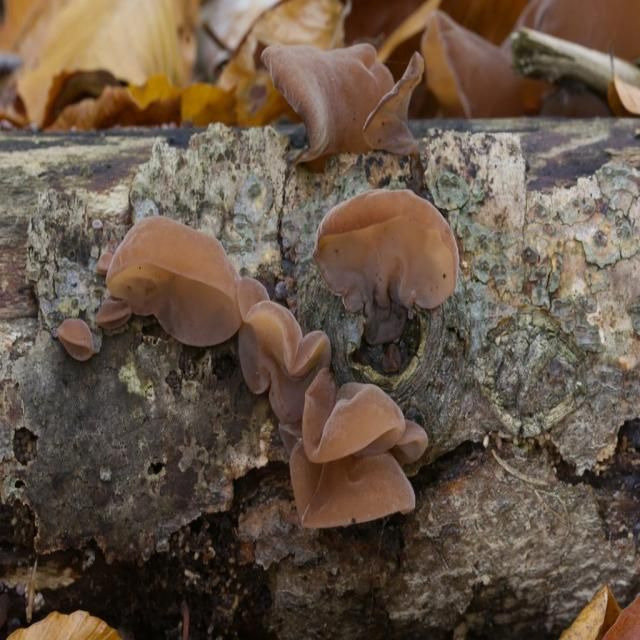Fase Muda: (105, 216, 241, 346), (237, 276, 331, 423), (289, 438, 417, 528), (302, 365, 402, 463), (56, 315, 95, 362), (394, 417, 429, 467), (98, 298, 132, 330)
Matang: (312, 188, 459, 312), (260, 43, 396, 166), (363, 51, 425, 158)
primordia: (380, 342, 402, 373), (96, 251, 114, 276), (92, 219, 104, 230)
